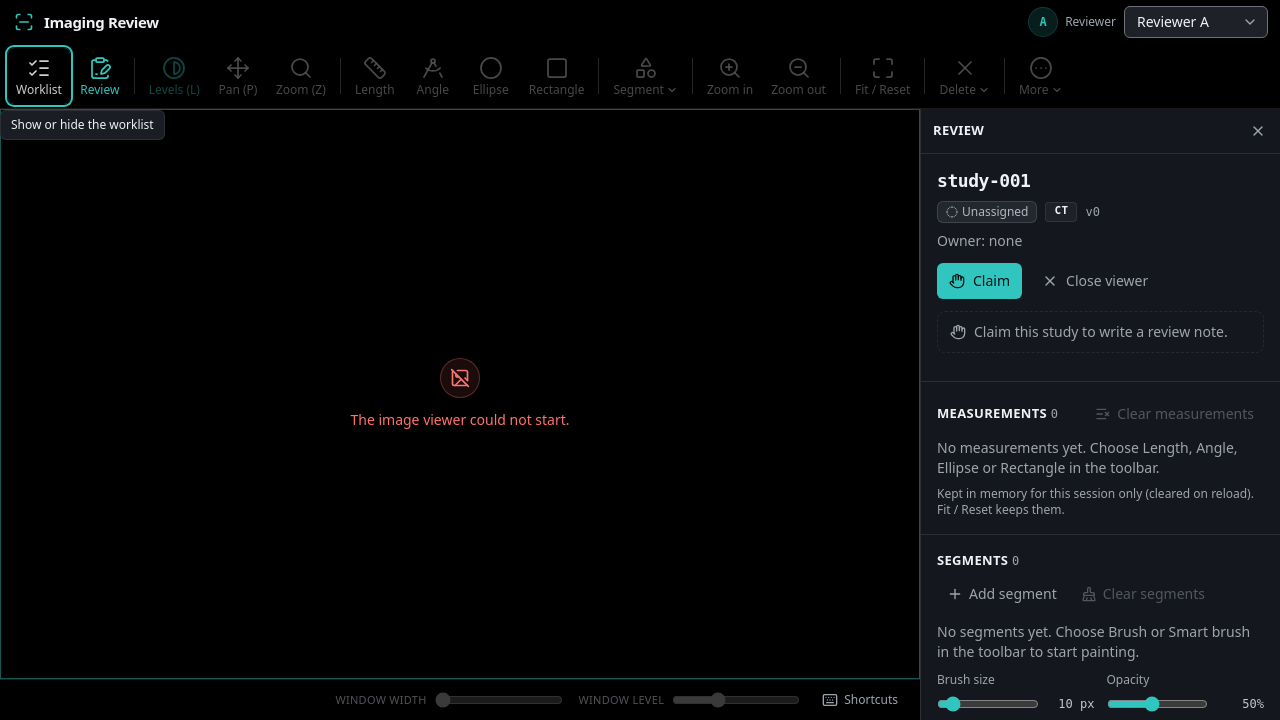
Scenario: Worklist refresh on conflicts › a 412 on claim makes the worklist row show the server current status
Click the button "Claim" at (980,280), box [937,262,1022,298]
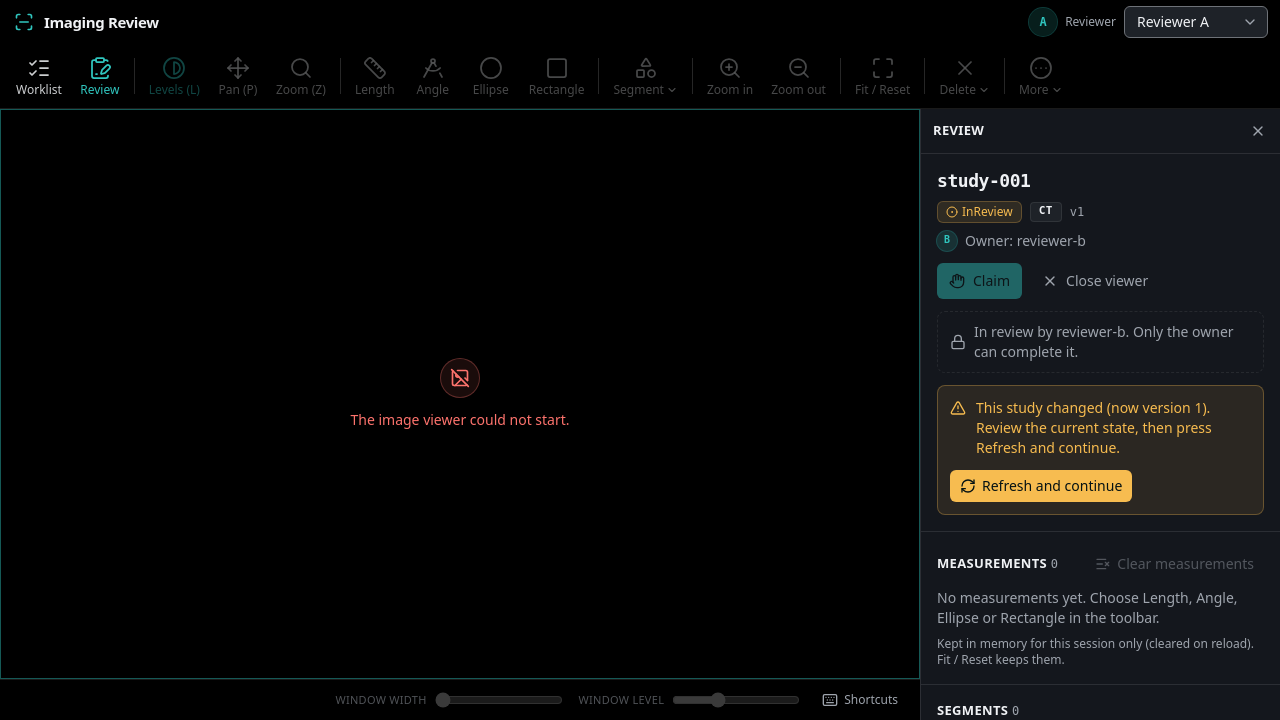
Result: the text "now version 1" is shown at [976,398,1251,458]
